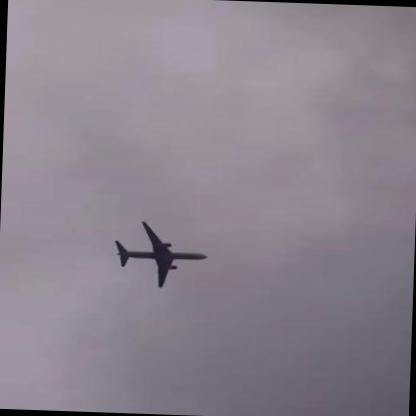plane: (114, 219, 210, 290)
